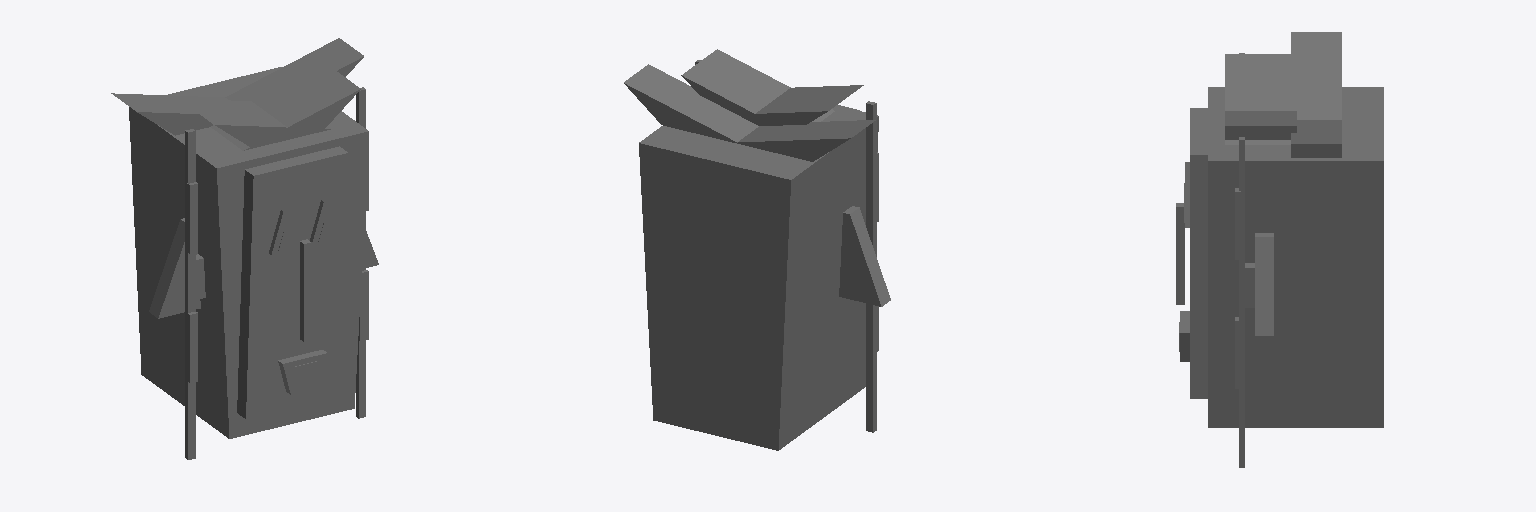
The model's file is Masks-3a-export.obj.
3 views of the same model, side by side, from view 1: azimuth 30°, elevation 25°; view 2: azimuth 150°, elevation 25°; view 3: azimuth 270°, elevation 25° (orthographic).
Visible parts, largest first — view 1: Rectangle 1, face-foreground, hair-right-2, hair-left-2, hair-right-1, braid-left-1, hair-left-1, Rectangle 5 copy 3, braid-right-1, nose, mouth-1, braid-left-3 (+4 smaller); view 2: Rectangle 1, hair-right-1, hair-right-2, Rectangle 5 copy 3, hair-left-1, braid-left-1, hair-left-2; view 3: Rectangle 1, face-foreground, hair-left-2, hair-left-1, hair-right-2, Rectangle 5, hair-right-1, braid-right-1, nose.
Part boxes in pixels (x1,y1,x2,y2): Rectangle 1: (129, 67, 368, 438); face-foreground: (237, 146, 353, 418); hair-right-2: (211, 63, 360, 150); hair-left-2: (179, 99, 330, 146); hair-right-1: (225, 38, 363, 100); braid-left-1: (185, 129, 195, 459); hair-left-1: (111, 93, 227, 135); Rectangle 5 copy 3: (149, 218, 200, 318); braid-right-1: (356, 87, 365, 418); nose: (300, 239, 311, 341); mouth-1: (278, 350, 327, 394); braid-left-3: (187, 182, 197, 253); Rectangle 1: (639, 105, 878, 450); hair-right-1: (624, 64, 758, 143); hair-right-2: (681, 49, 834, 121); Rectangle 5 copy 3: (839, 206, 890, 306); hair-left-1: (737, 120, 875, 161); braid-left-1: (866, 101, 876, 432); hair-left-2: (739, 85, 863, 125); Rectangle 1: (1208, 87, 1383, 427); face-foreground: (1190, 108, 1207, 398); hair-left-2: (1225, 54, 1296, 144); hair-left-1: (1291, 32, 1341, 119); hair-right-2: (1225, 111, 1296, 139); Rectangle 5: (1255, 233, 1273, 335); hair-right-1: (1291, 120, 1341, 157); braid-right-1: (1239, 137, 1244, 467); nose: (1176, 203, 1184, 304).
Bounding box in the file's own units: 1048 × 1474 × 828.